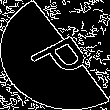P_NE: (17, 26, 93, 84)
